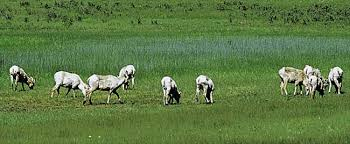sheep: (47, 69, 91, 104), (86, 64, 121, 105), (151, 75, 183, 115), (277, 64, 307, 98), (195, 73, 221, 112), (10, 64, 39, 93), (325, 65, 345, 96), (302, 62, 325, 84), (125, 60, 135, 103), (304, 74, 320, 99)
